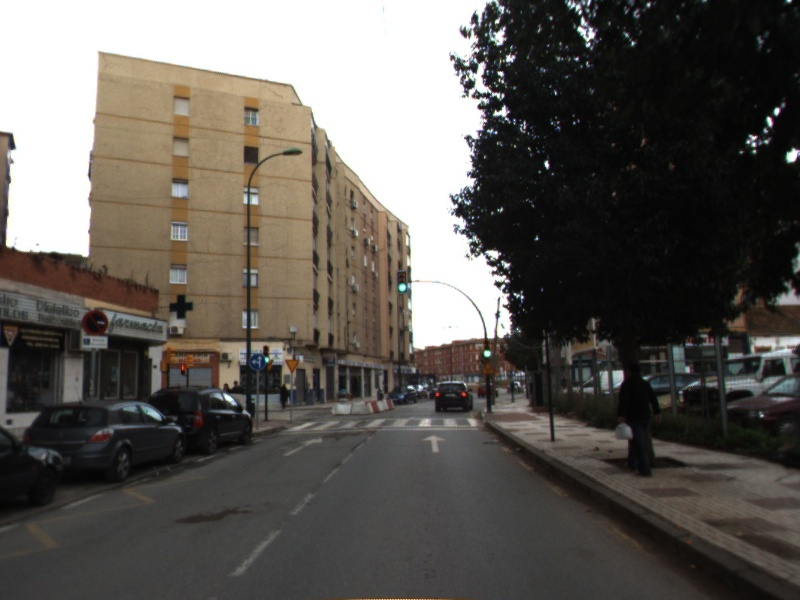STRAIGHT: (280, 434, 324, 458), (419, 433, 449, 454)
